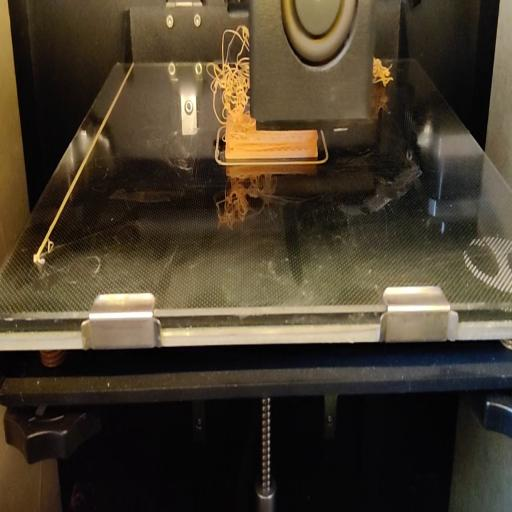spaghetti: (204, 28, 250, 133), (372, 53, 395, 86)
